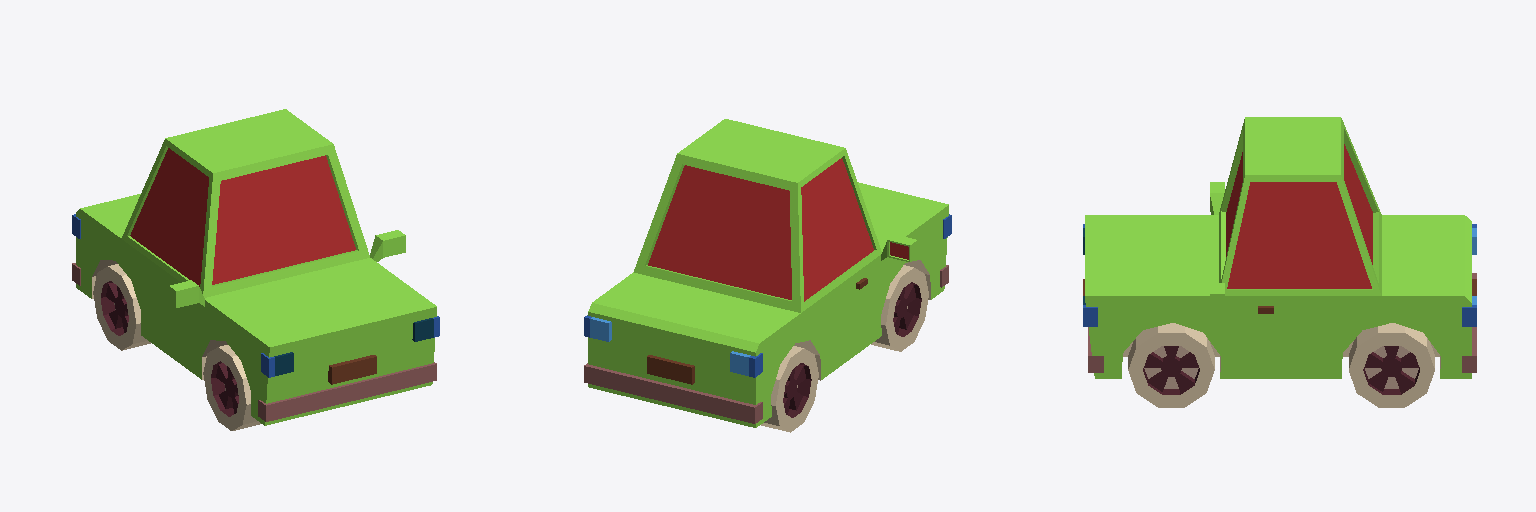
3 renders of one model, left to right at view 1: azimuth 30°, elevation 25°; view 2: azimuth 150°, elevation 25°; view 3: azimuth 270°, elevation 25°, orthographic.
Visible parts, largest first — view 1: Cube; view 2: Cube; view 3: Cube.
Part boxes in pixels (x1,y1,x2,y2): Cube: (72, 109, 439, 430); Cube: (584, 119, 951, 432); Cube: (1083, 117, 1476, 407).
Size of the model in its own units: 2.74 by 2.51 by 4.07.
Materials: 1 (1 with a texture image).